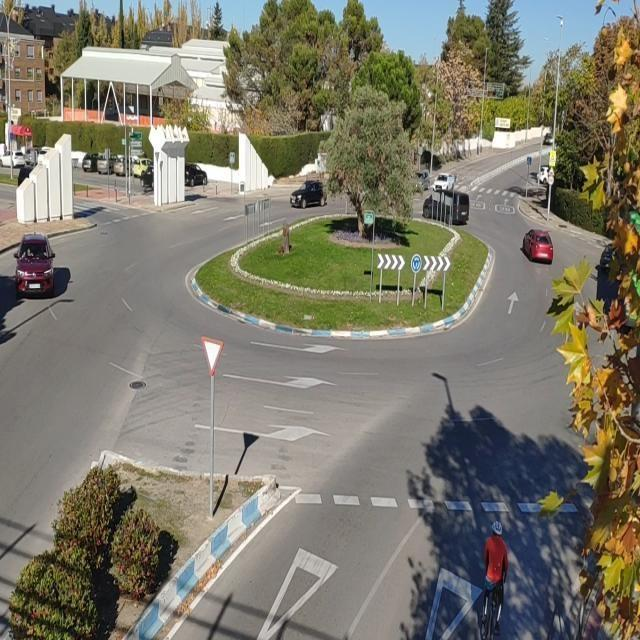Car: (15, 228, 62, 298), (515, 223, 561, 273), (283, 180, 329, 213), (433, 170, 461, 198)
Cycle: (479, 515, 515, 639)
